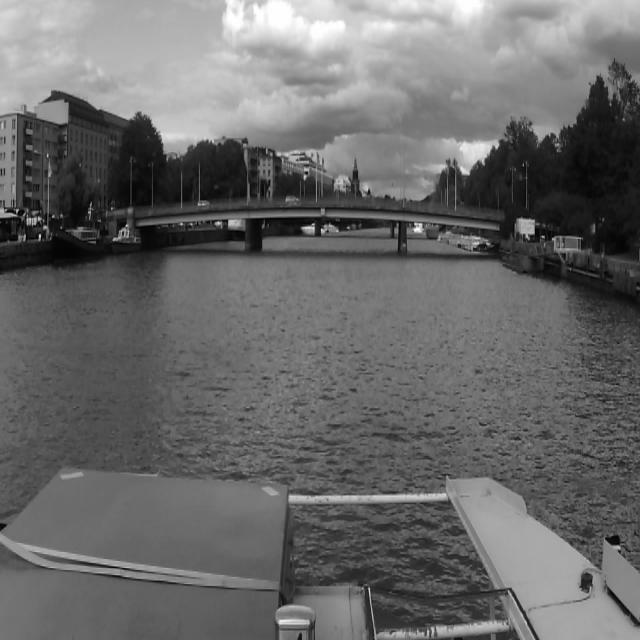ship: (51, 226, 103, 261), (300, 214, 328, 240), (111, 228, 142, 250)
